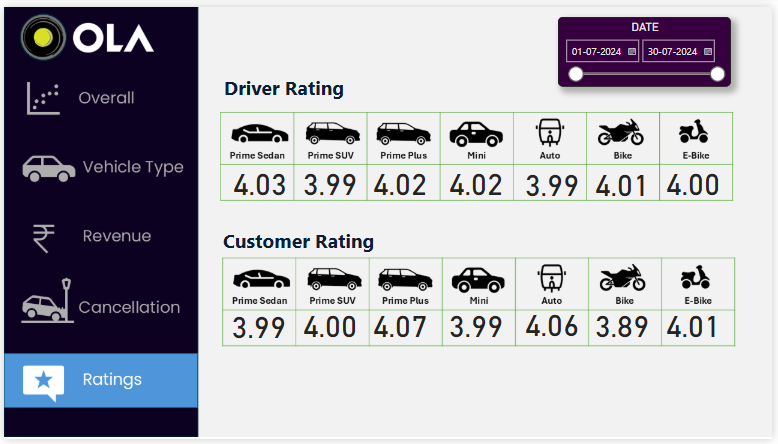

Layout of this report page (visuals, bound fields, positions):
{"tool":"powerbi","page":{"name":"Ratings","canvas":[1280,720],"ordinal":4},"visuals":[{"type":"actionButton","box":[0,334.5,323.1,96.4],"z":0},{"type":"actionButton","box":[1.4,445,323.1,107.7],"z":1000},{"type":"actionButton","box":[0,211.2,323.1,109.1],"z":2000},{"type":"actionButton","box":[0,103.5,323.1,99.2],"z":3000},{"type":"card","fields":{"Values":["Avg(Bookings.Driver_Ratings)"]},"box":[368,262,117.4,55.8],"z":4000},{"type":"card","fields":{"Values":["Avg(Bookings.Driver_Ratings)"]},"box":[485.1,261.8,117.4,55.8],"z":5000},{"type":"card","fields":{"Values":["Avg(Bookings.Driver_Ratings)"]},"box":[602.5,261.8,117.4,55.8],"z":6000},{"type":"card","fields":{"Values":["Avg(Bookings.Driver_Ratings)"]},"box":[727.6,261.8,117.4,55.8],"z":7000},{"type":"card","fields":{"Values":["Avg(Bookings.Driver_Ratings)"]},"box":[854.6,257.9,117.4,65.4],"z":8000},{"type":"card","fields":{"Values":["Avg(Bookings.Driver_Ratings)"]},"box":[972,257.9,117.4,65.4],"z":9000},{"type":"card","fields":{"Values":["Avg(Bookings.Driver_Ratings)"]},"box":[1089.4,256,117.4,65.4],"z":10000},{"type":"textbox","box":[361.1,106,225.9,61.5],"z":11000},{"type":"textbox","box":[359.6,361.1,281.2,63],"z":12000},{"type":"card","fields":{"Values":["Avg(Bookings.Customer_Rating)"]},"box":[367.3,499.4,116.8,55.3],"z":13000},{"type":"card","fields":{"Values":["Avg(Bookings.Customer_Rating)"]},"box":[485.1,500.5,117.4,53.9],"z":14000},{"type":"card","fields":{"Values":["Avg(Bookings.Customer_Rating)"]},"box":[602.5,500.5,117.4,53.9],"z":15000},{"type":"card","fields":{"Values":["Avg(Bookings.Customer_Rating)"]},"box":[727.6,500.5,117.4,53.9],"z":16000},{"type":"card","fields":{"Values":["Avg(Bookings.Customer_Rating)"]},"box":[854.6,498.5,117.4,53.9],"z":17000},{"type":"card","fields":{"Values":["Avg(Bookings.Customer_Rating)"]},"box":[972,500.5,117.4,53.9],"z":18000},{"type":"card","fields":{"Values":["Avg(Bookings.Customer_Rating)"]},"box":[1089.4,500.5,117.4,53.9],"z":19000},{"type":"slicer","title":"DATE","fields":{"Values":["Bookings-20000-Rows.Date"]},"box":[922.7,17,287.7,116.2],"z":20000}]}

Visuals, with their boxes in screenshot pixels (x1, y1, x2, y2), scaled from the page's 1280x720 canvas onto the 778x444 screenshot:
actionButton: 0:206:196:266
actionButton: 1:274:197:341
actionButton: 0:130:196:198
actionButton: 0:64:196:125
card - Avg(Bookings.Driver_Ratings): 224:162:295:196
card - Avg(Bookings.Driver_Ratings): 295:161:366:196
card - Avg(Bookings.Driver_Ratings): 366:161:438:196
card - Avg(Bookings.Driver_Ratings): 442:161:514:196
card - Avg(Bookings.Driver_Ratings): 519:159:591:199
card - Avg(Bookings.Driver_Ratings): 591:159:662:199
card - Avg(Bookings.Driver_Ratings): 662:158:734:198
textbox: 219:65:357:103
textbox: 219:223:389:262
card - Avg(Bookings.Customer_Rating): 223:308:294:342
card - Avg(Bookings.Customer_Rating): 295:309:366:342
card - Avg(Bookings.Customer_Rating): 366:309:438:342
card - Avg(Bookings.Customer_Rating): 442:309:514:342
card - Avg(Bookings.Customer_Rating): 519:307:591:341
card - Avg(Bookings.Customer_Rating): 591:309:662:342
card - Avg(Bookings.Customer_Rating): 662:309:734:342
"DATE" slicer: 561:10:736:82
